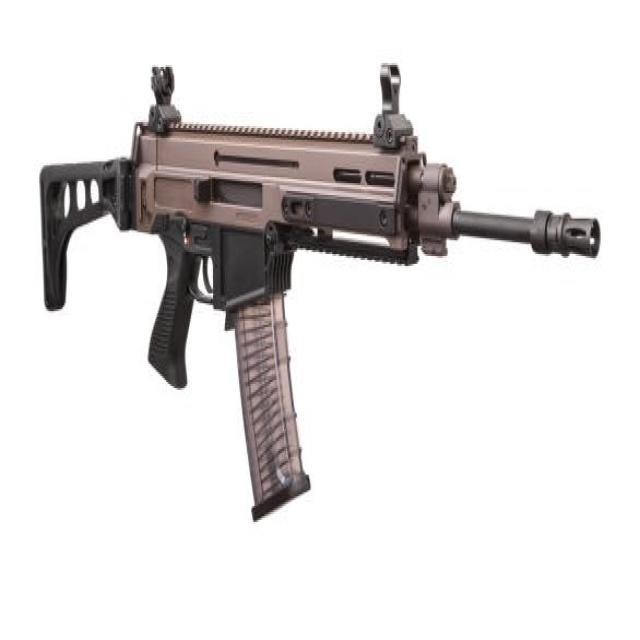rifle: (34, 49, 606, 532)
